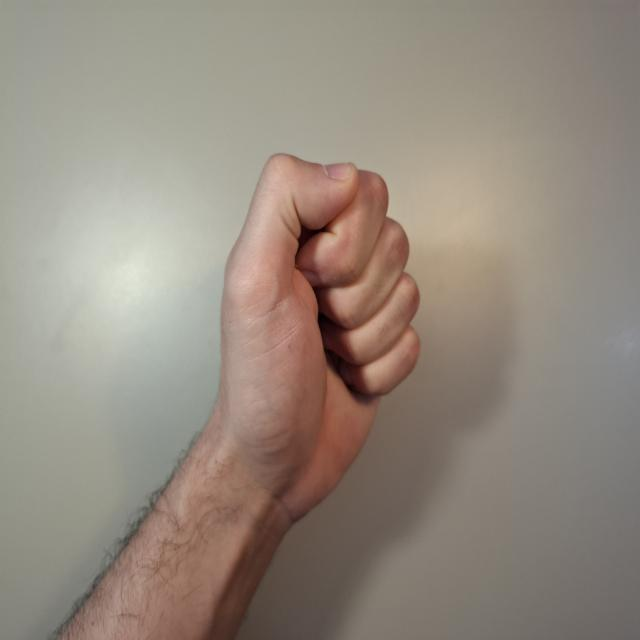glove_off: (215, 150, 423, 530)
